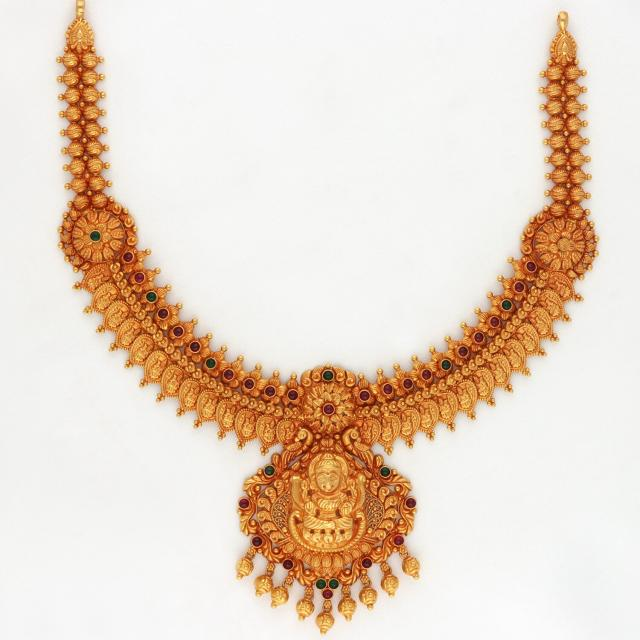missing gem: (559, 240, 569, 250)
